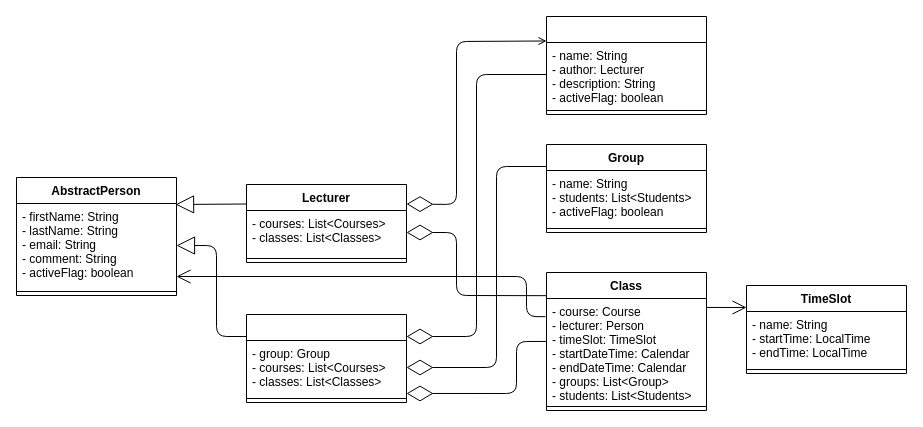
This 923x427 diagram has some shape labels left out. The box of each missing label's shape, as (x1, y1, x2, y2) in pixels:
Course: (546, 16, 706, 114)
Student: (246, 314, 406, 402)
